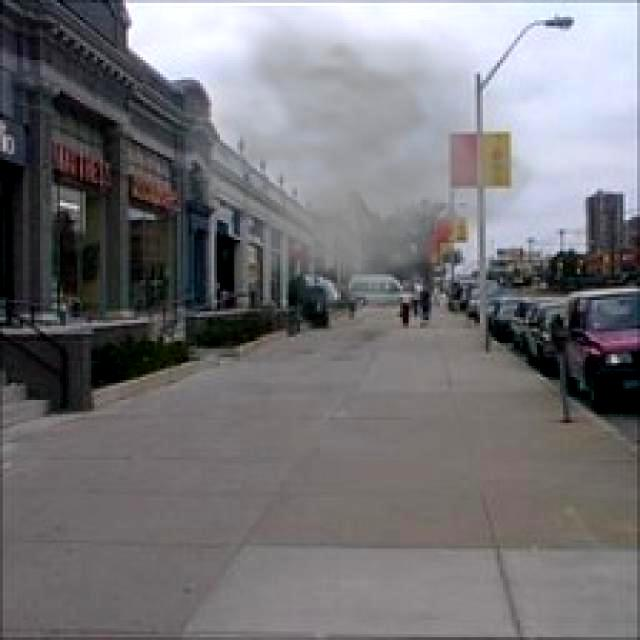Smoke: (155, 6, 555, 351)
